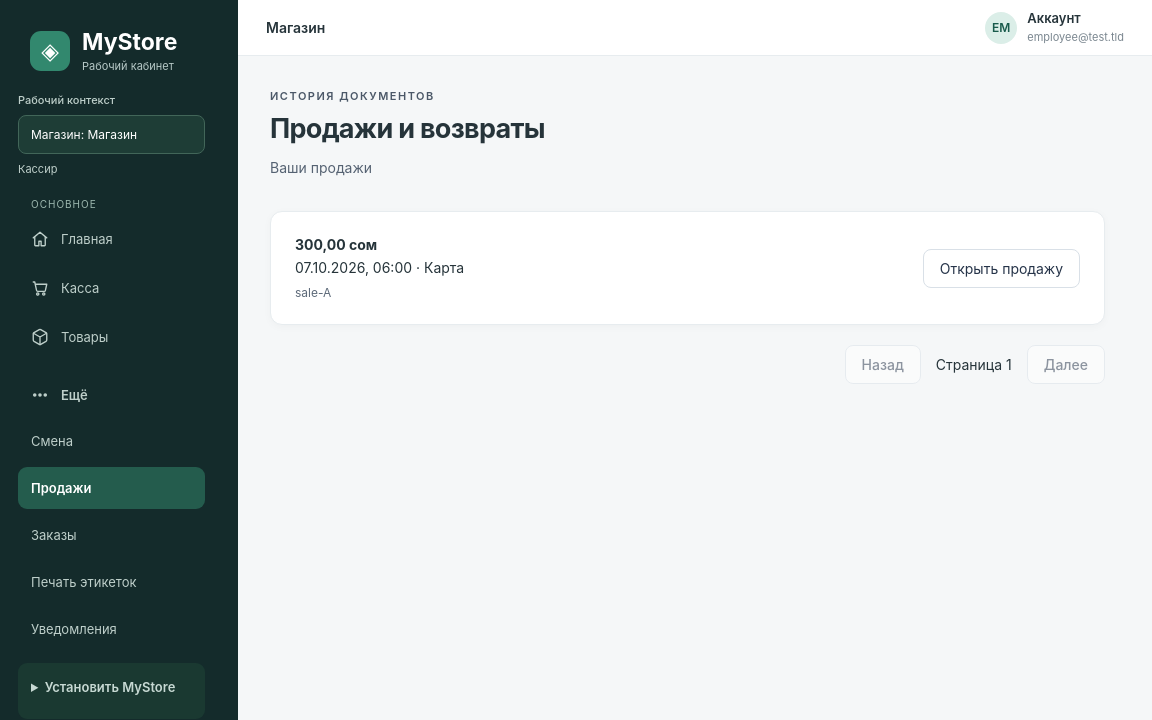
Test case: lets a cashier open their sale detail and see returned quantities without return controls
Click the link "Открыть продажу" at (1001, 268), box [923, 249, 1080, 288]
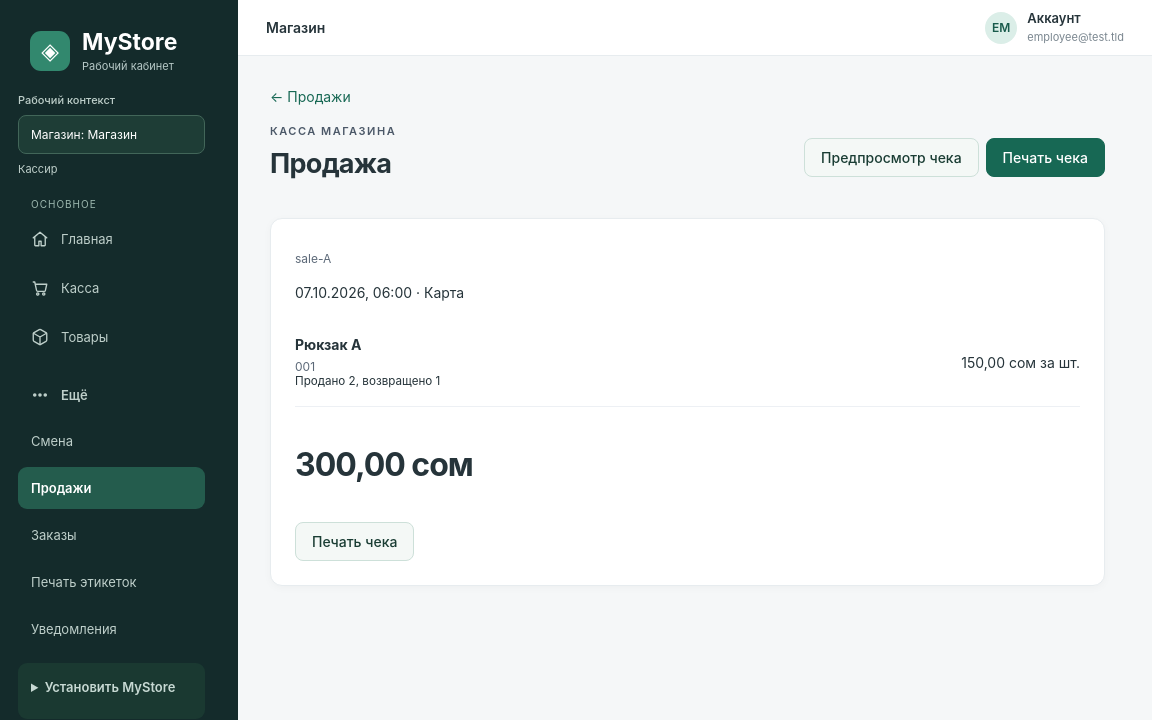
Check: the text "Рюкзак A" is shown, box [295, 336, 361, 353]
Check: the text "Продано 2, возвращено 1" is shown, box [295, 374, 440, 388]
